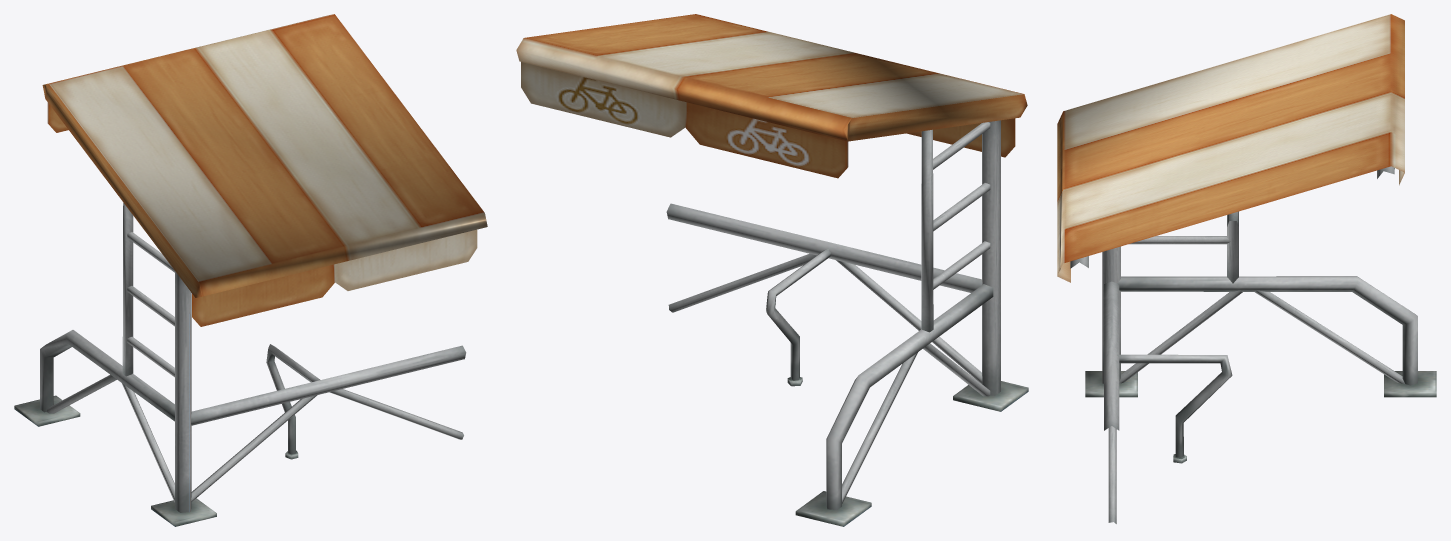
File: a_SEbike01.glb
The picture shows the model from 3 angles, left to right: view 1: azimuth 30°, elevation 25°; view 2: azimuth 150°, elevation 25°; view 3: azimuth 270°, elevation 25°; orthographic projection. The views are drawn at different scales.
Parts seen in each view (by area): view 1: a_SEbike01; view 2: a_SEbike01; view 3: a_SEbike01.
Boxes of the visible parts, x1=… form: a_SEbike01: x1=14, y1=14, x2=487, y2=526; a_SEbike01: x1=516, y1=14, x2=1028, y2=526; a_SEbike01: x1=1057, y1=14, x2=1436, y2=523.
Bounding box in the file's own units: 2.16 × 2.31 × 2.16.
1 material, 1 textured.
